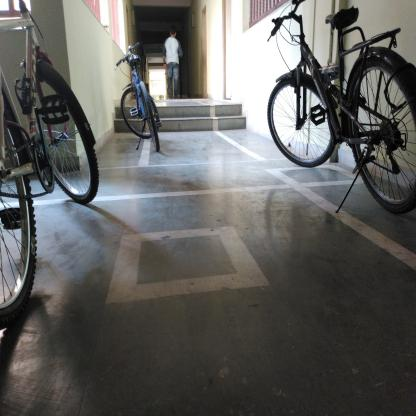stairs: (165, 103, 241, 134)
